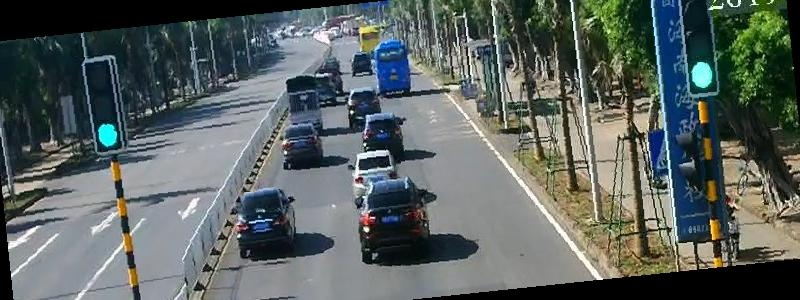green: (690, 60, 716, 89), (94, 121, 119, 148)
